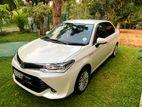car: (12, 18, 119, 100)
